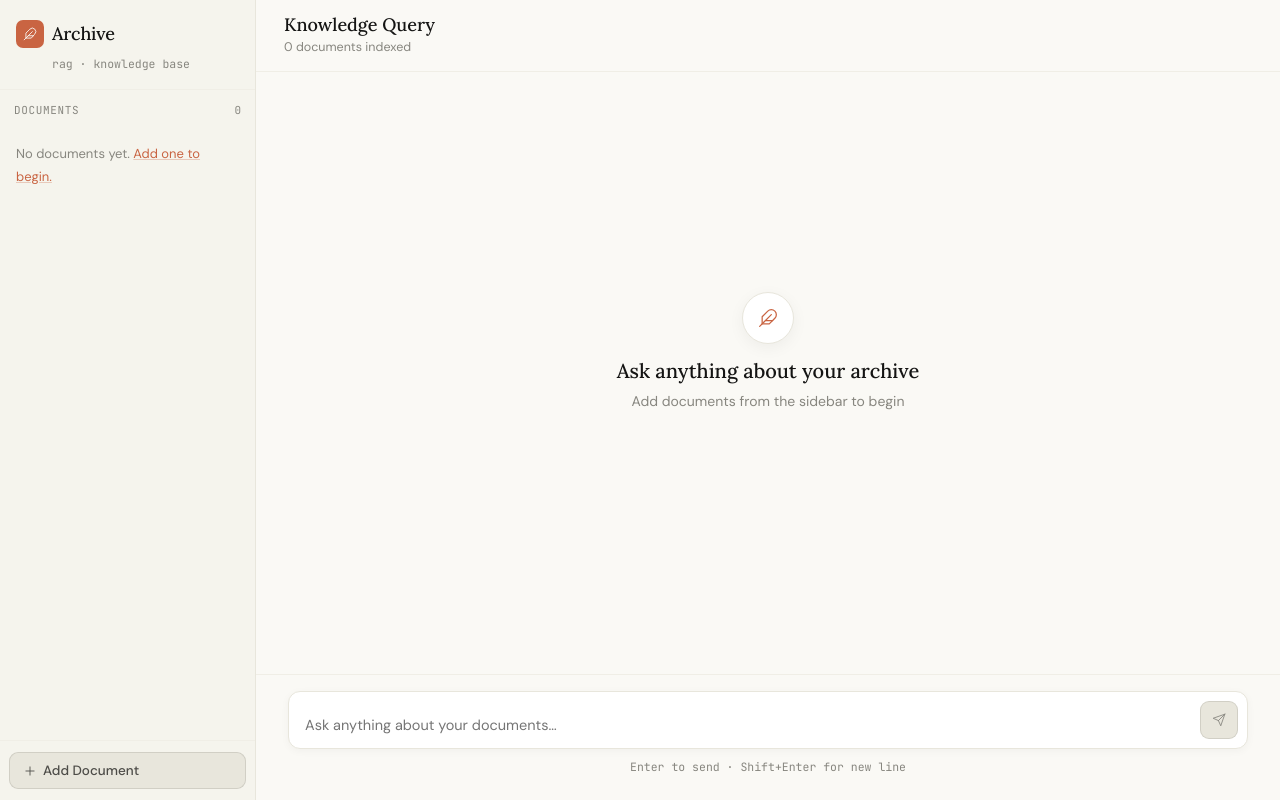
Test: App › closes upload modal when backdrop is clicked
Click the button "Add Document": (128, 770) [10,753,245,788]
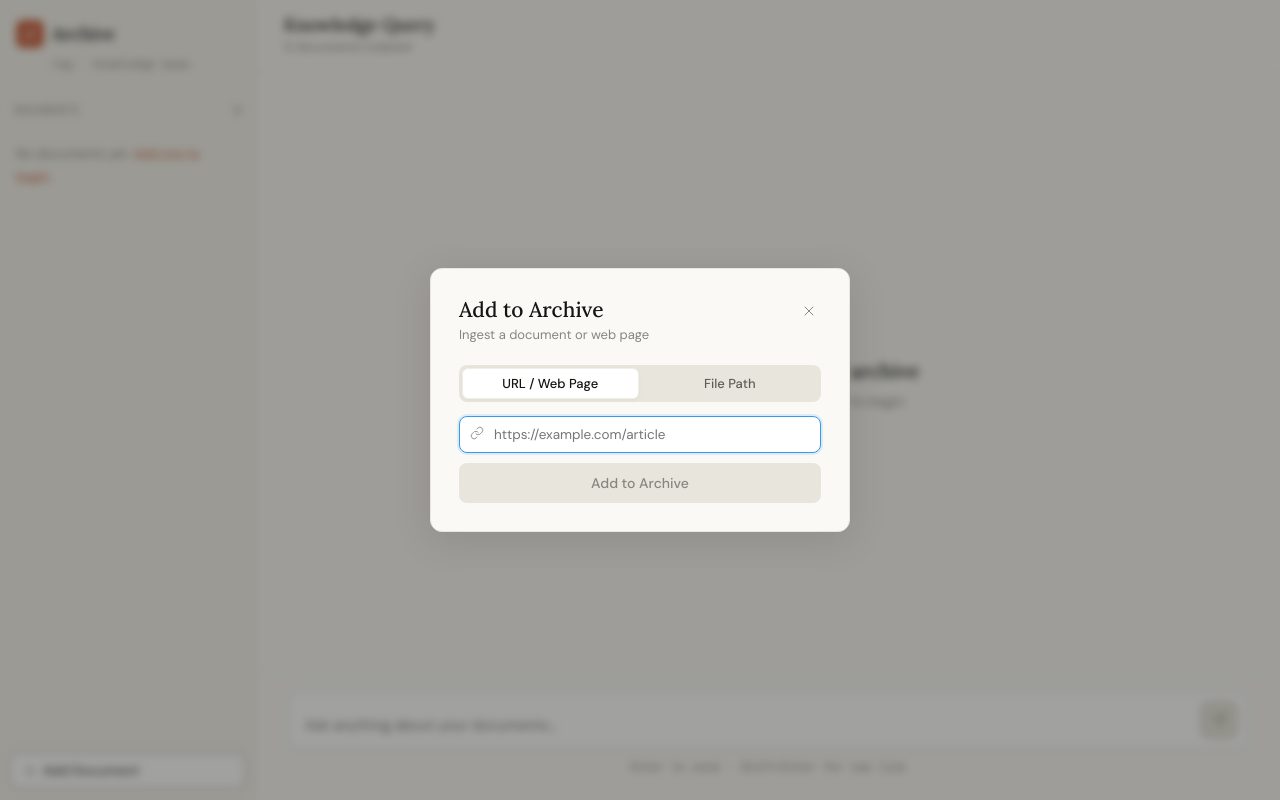
Check: the heading "Add to Archive" is shown, box [459,296,604,322]
Click the element with test id "modal-backdrop": (77, 400) [0,0,1279,799]
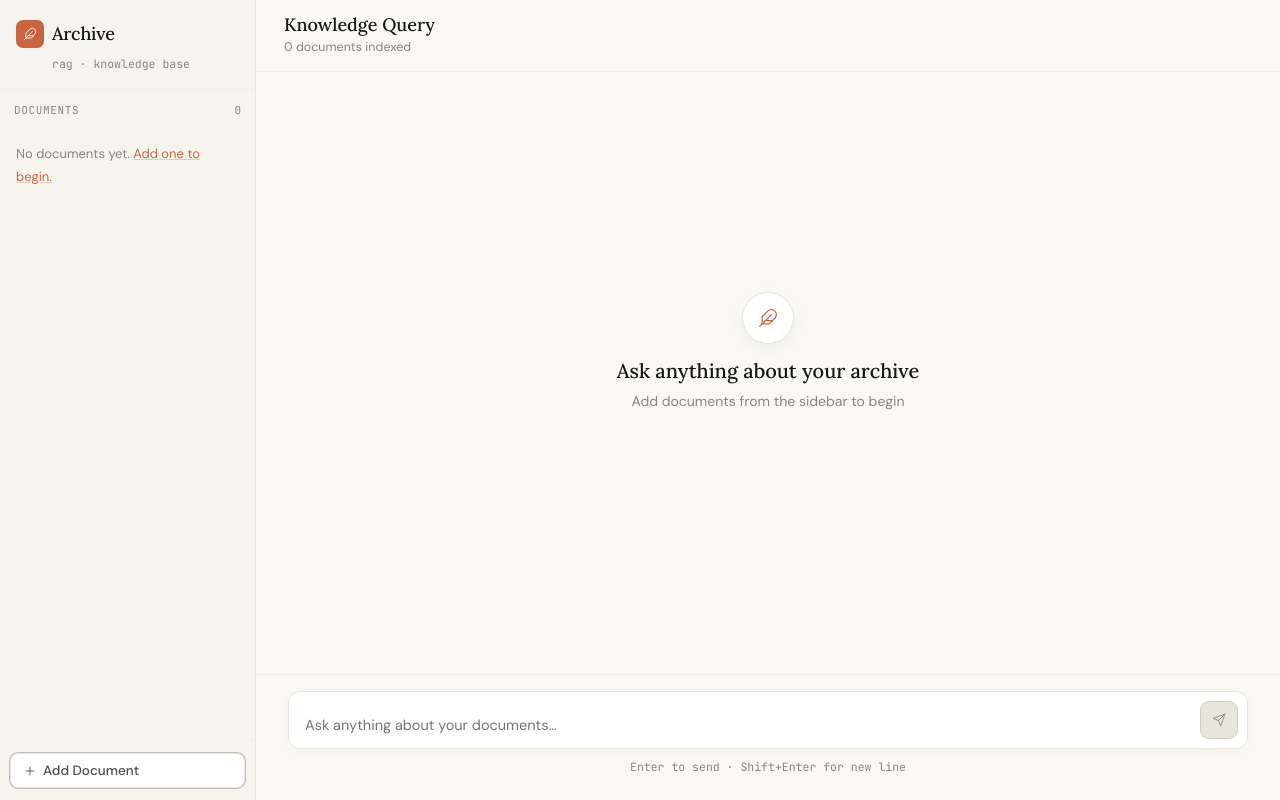
Check: the heading "Add to Archive" is gone
